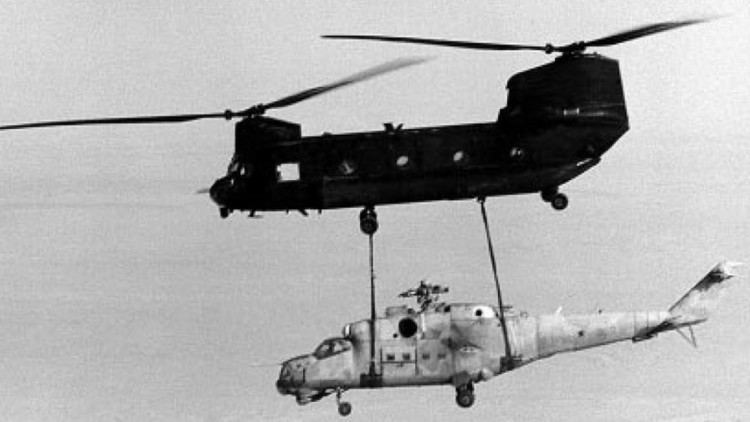chinook: (111, 24, 710, 216)
